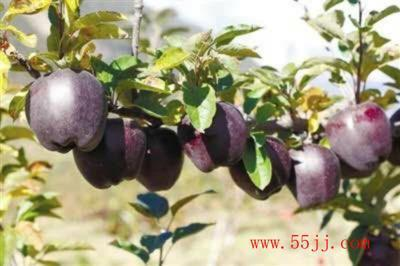apple: (25, 68, 107, 153), (70, 117, 145, 189), (178, 101, 248, 171), (326, 101, 392, 173), (230, 134, 289, 199), (288, 144, 341, 205), (135, 126, 183, 190)
